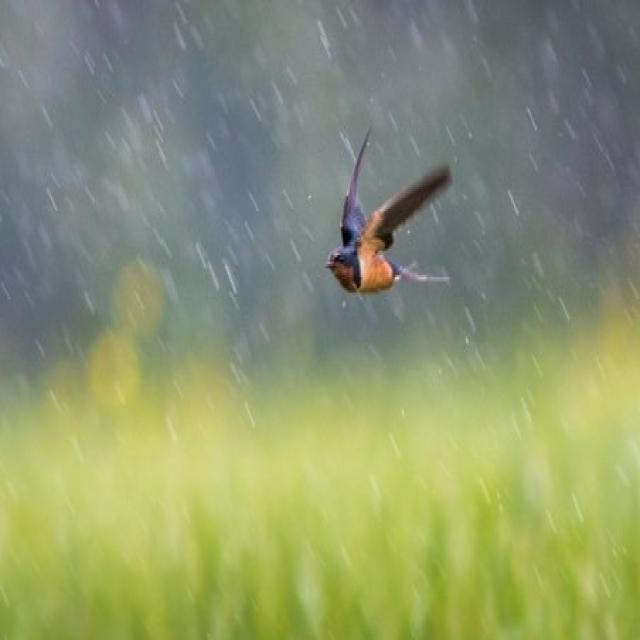bird: (301, 128, 483, 340)
